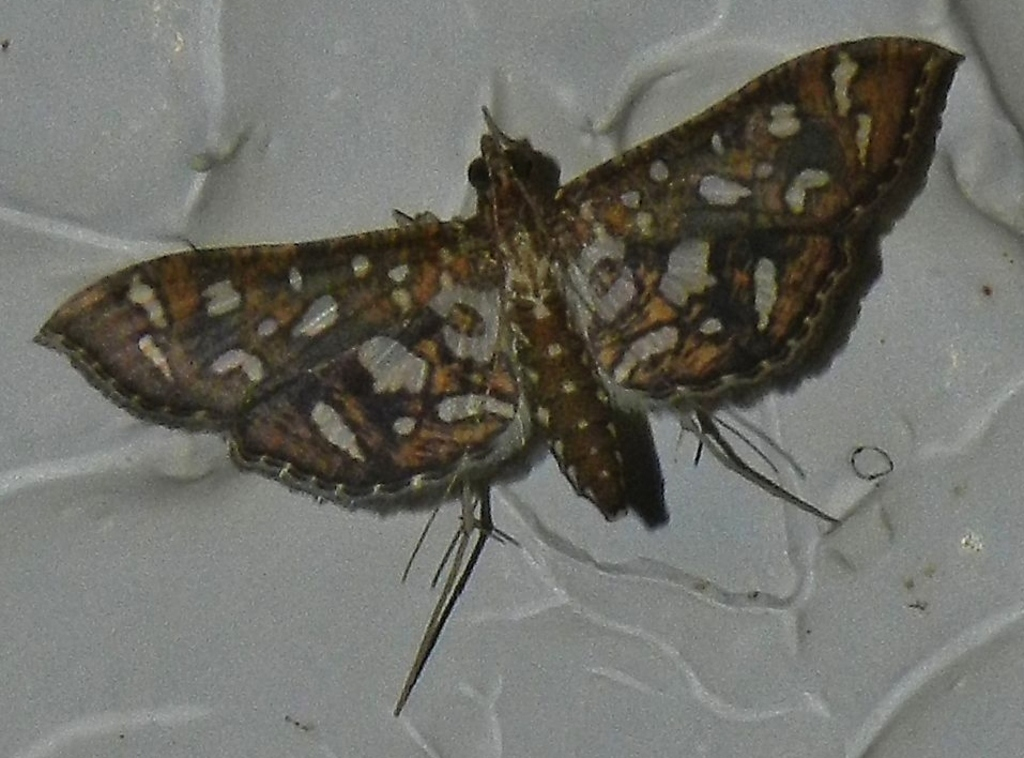Butterfly: (26, 54, 966, 575)
